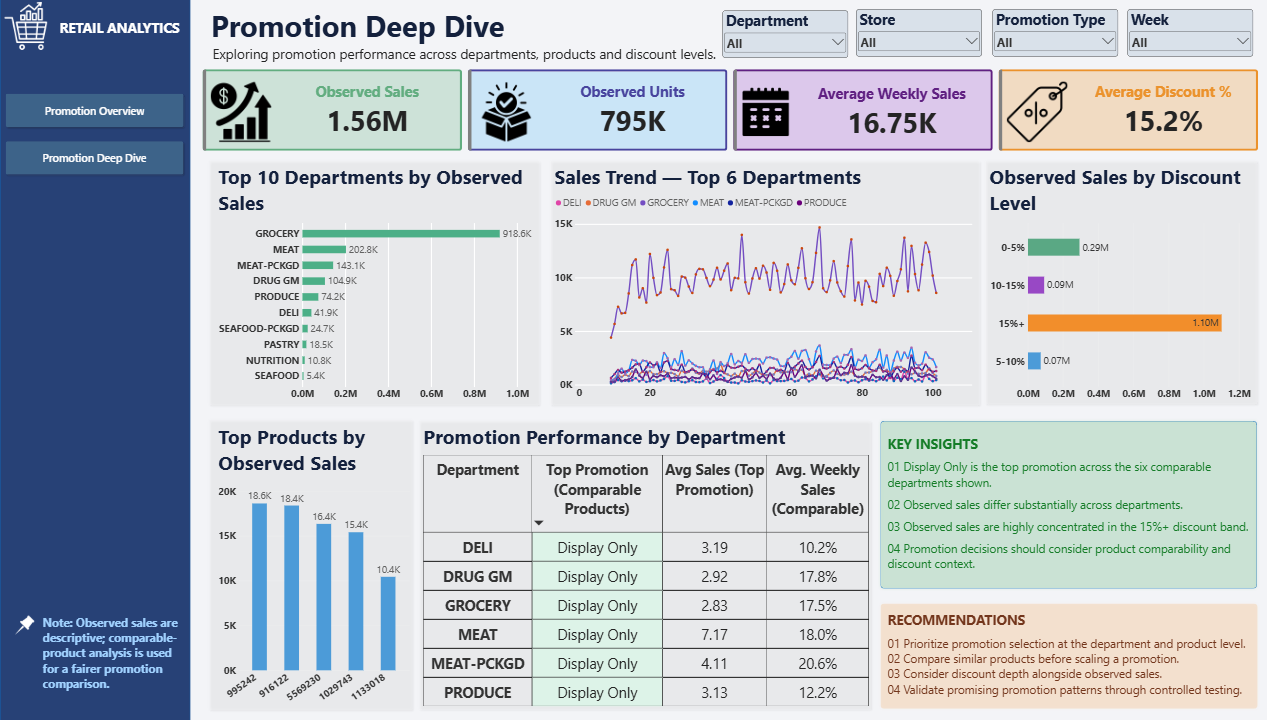

The page's visual inventory and layout, read from the dashboard file:
{"tool":"powerbi","page":{"name":"Page 2","canvas":[3500,2010],"ordinal":1},"visuals":[{"type":"shape","box":[0,0,525,2010],"z":0},{"type":"shape","box":[570,1156.7,576.7,816.7],"z":1000},{"type":"textbox","box":[135,55,390,90],"z":2000},{"type":"image","box":[0,6.7,136.7,140],"z":3000},{"type":"textbox","box":[525,5,925,140],"z":4000},{"type":"textbox","box":[586.7,126.7,1406.7,70],"z":5000},{"type":"slicer","title":"Department","fields":{"Values":["retail promotion_analysis.department"]},"box":[1993.3,33.3,346.7,130],"z":6000},{"type":"slicer","title":"Department","fields":{"Values":["retail promotion_analysis.store_id"]},"box":[2362.5,32.5,346.7,130],"z":7000},{"type":"slicer","title":"Department","fields":{"Values":["Dim Promotion Type.promotion_type"]},"box":[2737.5,32.5,346.7,130],"z":8000},{"type":"slicer","title":"Department","fields":{"Values":["retail promotion_analysis.week_no"]},"box":[3110,32.5,346.7,130],"z":9000},{"type":"cardVisual","title":"Total Sales","fields":{"Data":["retail promotion_analysis.Observed Sales","retail promotion_analysis.Observed Units","retail promotion_analysis.Average Weekly Sales","retail promotion_analysis.Average Discount %"]},"box":[560,195,2915,225],"z":10000},{"type":"actionButton","box":[8,254,508,110],"z":11000},{"type":"actionButton","box":[7.5,385,507.5,110],"z":12000},{"type":"image","box":[34,1702,68,52],"z":13000},{"type":"textbox","box":[117.1,1701.4,397.1,224.3],"z":14000},{"type":"shape","box":[570,440,927.1,690],"z":15000},{"type":"clusteredBarChart","title":"Top 10 Departments by Observed Sales","fields":{"Category":["retail promotion_analysis.department"],"Y":["retail promotion_analysis.Observed Sales"]},"box":[587.1,440,927.1,690],"z":16000},{"type":"shape","box":[2711.4,440,765.7,687.1],"z":17000},{"type":"shape","box":[1510,440,1200,690],"z":18000},{"type":"shape","box":[2421.7,1160,1055,478.3],"z":18500},{"type":"shape","box":[2421.7,1663.3,1056.7,306.7],"z":19000},{"type":"lineChart","title":"Sales Trend — Top 6 Departments","fields":{"Category":["retail promotion_analysis.week_no"],"Y":["retail promotion_analysis.Observed Sales"],"Series":["retail promotion_analysis.department"]},"box":[1515,442.5,1196.7,686.7],"z":20000},{"type":"clusteredBarChart","title":"Observed Sales by Discount Level","fields":{"Category":["retail promotion_analysis.Discount Level"],"Y":["retail promotion_analysis.Observed Sales"]},"box":[2715,440,785,690],"z":21000},{"type":"shape","box":[1148,1158,1262,812],"z":22000},{"type":"clusteredColumnChart","title":"Top Products by Observed Sales","fields":{"Y":["retail promotion_analysis.Observed Sales"],"Category":["retail promotion_analysis.product_id"]},"box":[586.7,1160,560,816.7],"z":23000},{"type":"pivotTable","title":"Promotion Performance by Department","fields":{"Rows":["retail promotion_analysis.department"],"Values":["retail promotion_analysis.Best Performing Promotion","retail promotion_analysis.Avg Sales (Top Promotion)","retail promotion_analysis.Avg Discount (Top Promotion)"]},"box":[1150,1160,1385,820],"z":24000},{"type":"textbox","box":[2448.3,1203.3,1008.3,383.3],"z":25000},{"type":"textbox","box":[2448.3,1690,1008.3,265],"z":27000}]}

Visuals, with their boxes on the page's 3500x2010 design canvas (x1, y1, x2, y2). These are canvas units, not pixel positions in the 1267x720 screenshot, which may show the page scaled, cropped or inside an application window:
shape: l=0, t=0, r=525, b=2010
shape: l=570, t=1157, r=1147, b=1973
textbox: l=135, t=55, r=525, b=145
image: l=0, t=7, r=137, b=147
textbox: l=525, t=5, r=1450, b=145
textbox: l=587, t=127, r=1993, b=197
"Department" slicer: l=1993, t=33, r=2340, b=163
"Department" slicer: l=2362, t=32, r=2709, b=162
"Department" slicer: l=2738, t=32, r=3084, b=162
"Department" slicer: l=3110, t=32, r=3457, b=162
"Total Sales" cardVisual: l=560, t=195, r=3475, b=420
actionButton: l=8, t=254, r=516, b=364
actionButton: l=8, t=385, r=515, b=495
image: l=34, t=1702, r=102, b=1754
textbox: l=117, t=1701, r=514, b=1926
shape: l=570, t=440, r=1497, b=1130
"Top 10 Departments by Observed Sales" clusteredBarChart: l=587, t=440, r=1514, b=1130
shape: l=2711, t=440, r=3477, b=1127
shape: l=1510, t=440, r=2710, b=1130
shape: l=2422, t=1160, r=3477, b=1638
shape: l=2422, t=1663, r=3478, b=1970
"Sales Trend — Top 6 Departments" lineChart: l=1515, t=442, r=2712, b=1129
"Observed Sales by Discount Level" clusteredBarChart: l=2715, t=440, r=3500, b=1130
shape: l=1148, t=1158, r=2410, b=1970
"Top Products by Observed Sales" clusteredColumnChart: l=587, t=1160, r=1147, b=1977
"Promotion Performance by Department" pivotTable: l=1150, t=1160, r=2535, b=1980
textbox: l=2448, t=1203, r=3457, b=1587
textbox: l=2448, t=1690, r=3457, b=1955
